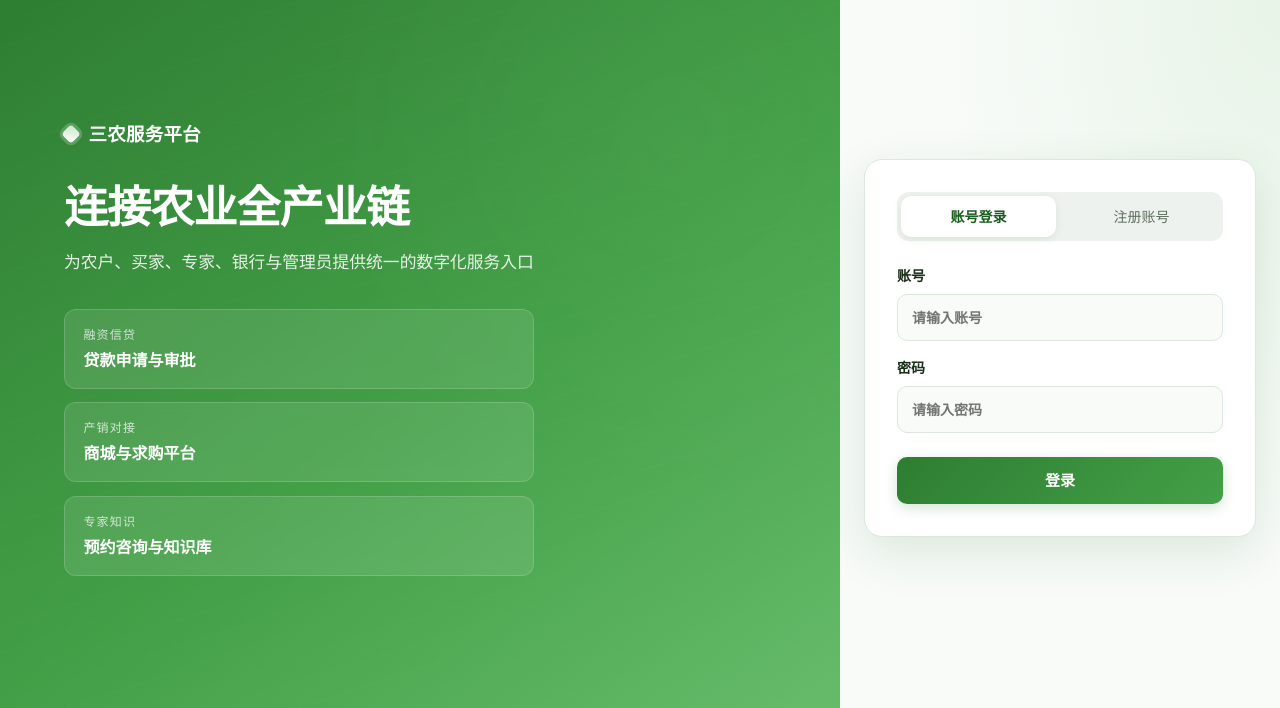
Login page › switches to register mode and validates required fields
The image size is (1280, 708).
Click the button "注册账号": (1142,217) [1064,196,1219,237]
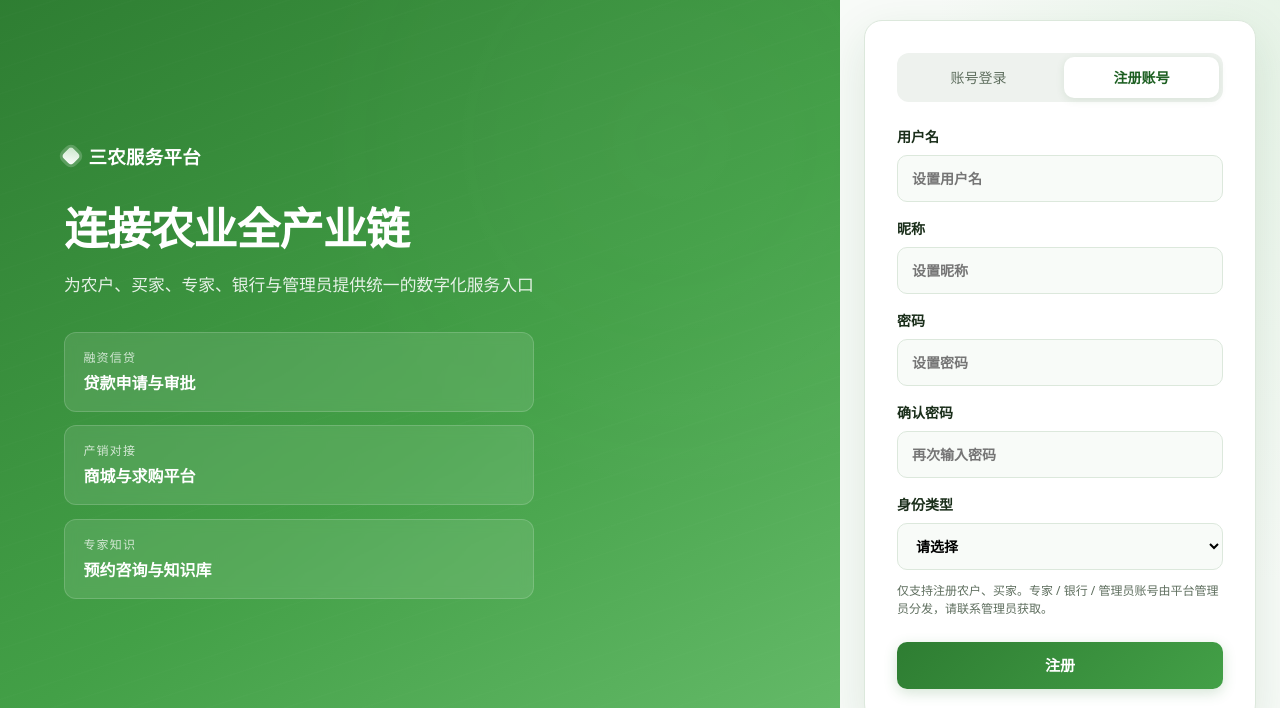
Click the button "注册": (1060,665) [897,642,1223,688]
(page scrolled)
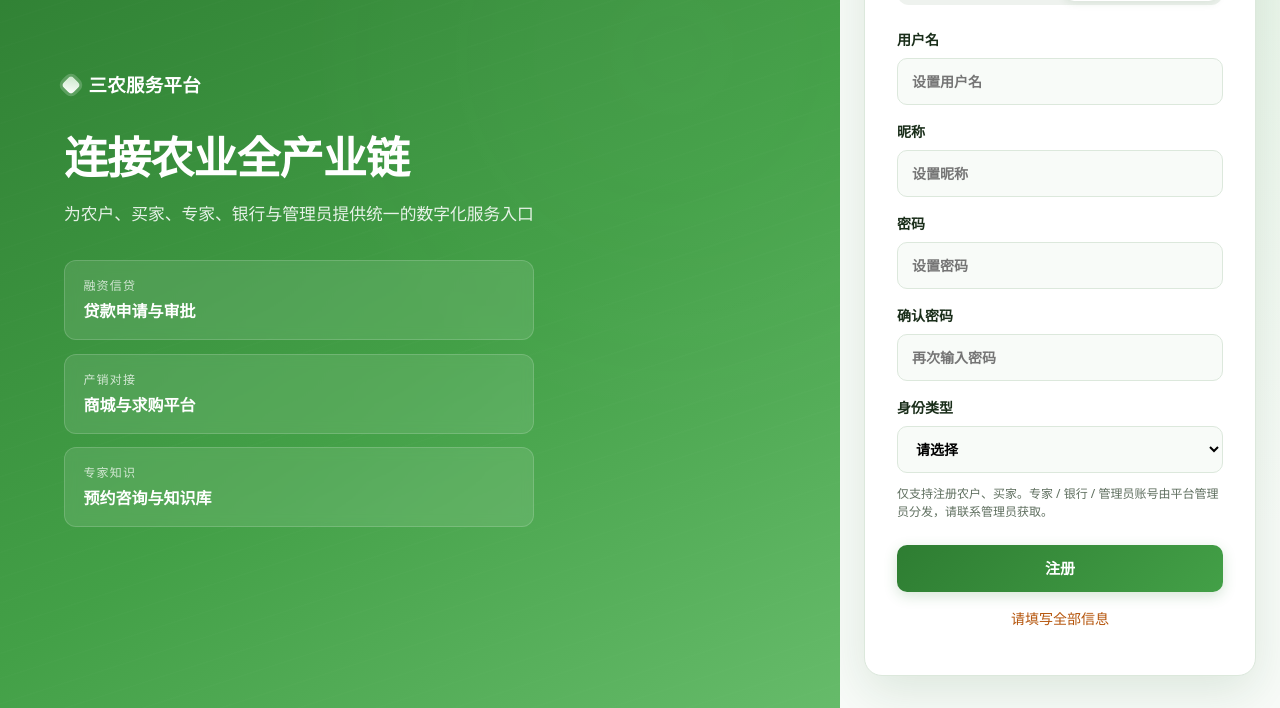
Expected: the text "请填写全部信息" is shown, [1011,608,1109,628]
